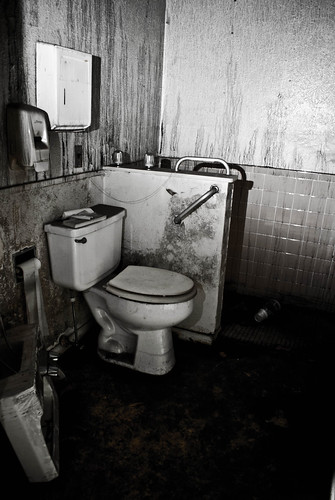toilet: (33, 196, 195, 374)
